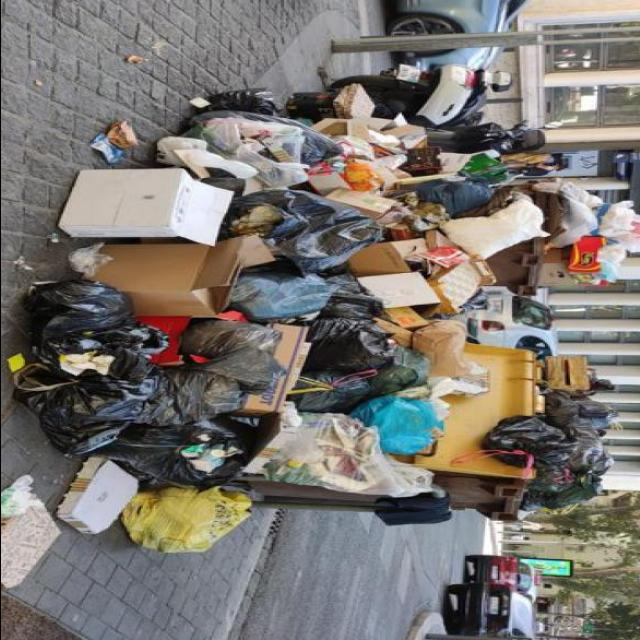plastik: (482, 391, 616, 510), (245, 413, 432, 498), (15, 352, 165, 455), (219, 189, 381, 274), (290, 318, 428, 412), (121, 487, 251, 552), (26, 279, 131, 337), (350, 395, 444, 454), (598, 200, 640, 252)
